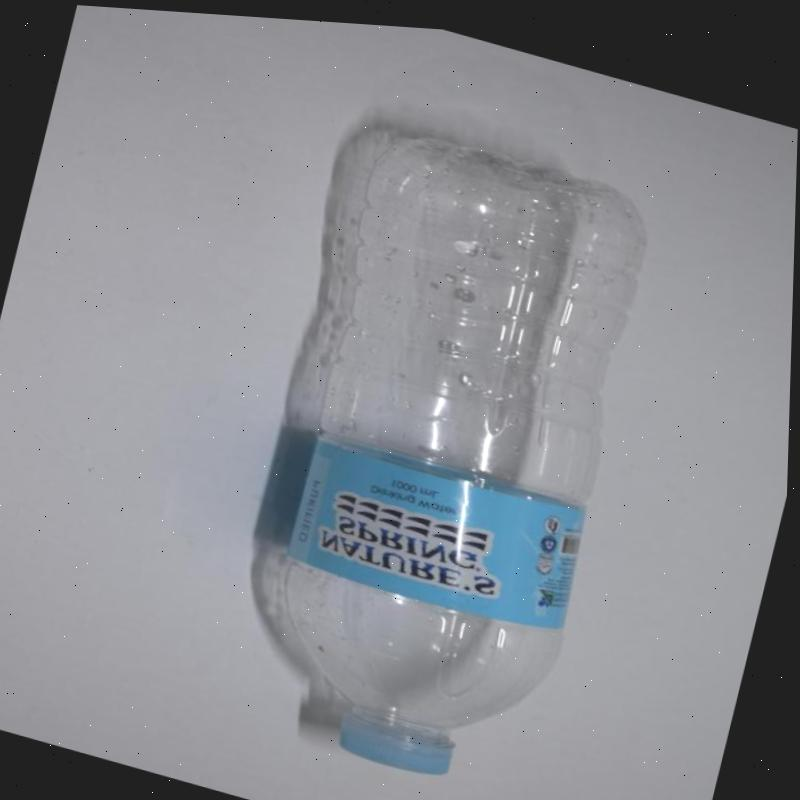botella: (233, 108, 671, 800)
